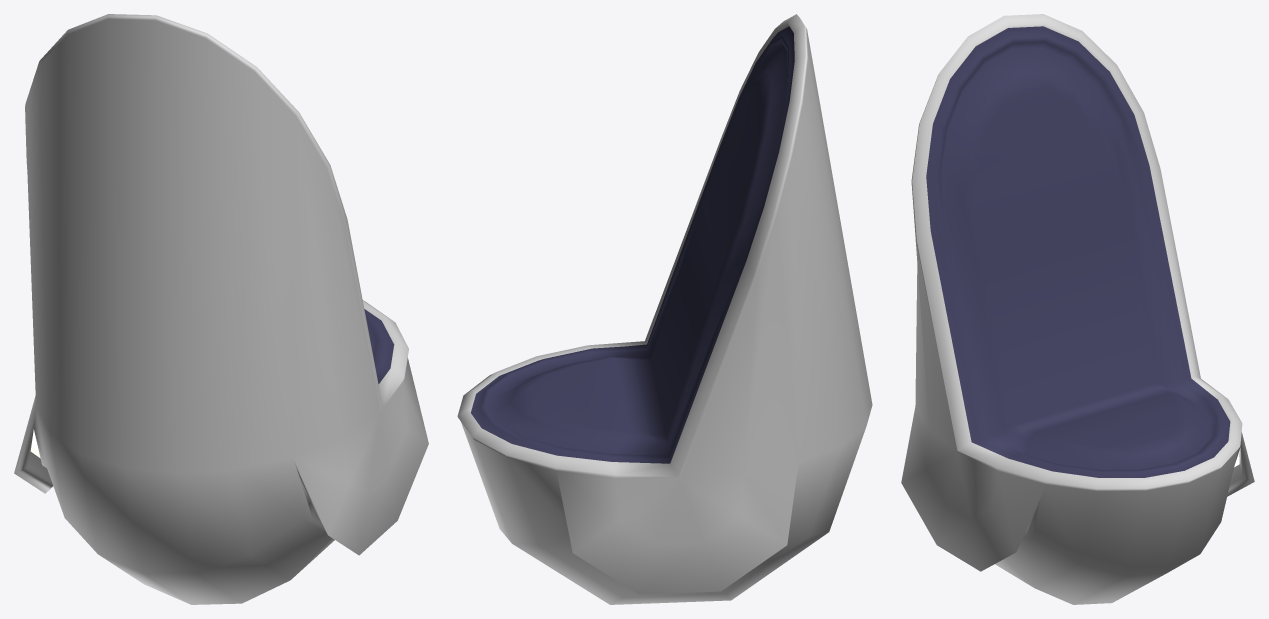
File: Bridge_Chair_02_Mesh.fbx
3 views of the same model, side by side, from view 1: azimuth 30°, elevation 25°; view 2: azimuth 150°, elevation 25°; view 3: azimuth 270°, elevation 25° (orthographic). The views are drawn at different scales.
Visible parts, largest first — view 1: Bridge_Chair_02_Mesh; view 2: Bridge_Chair_02_Mesh; view 3: Bridge_Chair_02_Mesh.
Boxes of the visible parts, x1=… form: Bridge_Chair_02_Mesh: x1=14, y1=14, x2=428, y2=604; Bridge_Chair_02_Mesh: x1=457, y1=14, x2=872, y2=604; Bridge_Chair_02_Mesh: x1=901, y1=14, x2=1254, y2=604.
Bounding box in the file's own units: 269 × 434 × 266.
